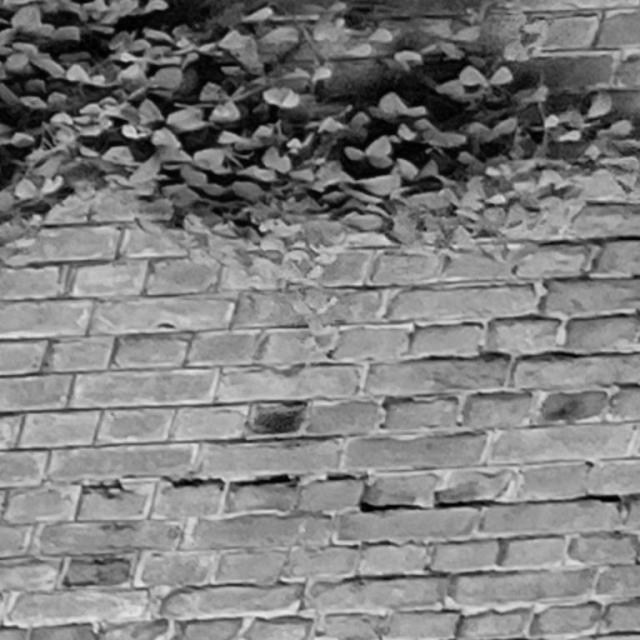crack: (170, 474, 640, 514)
